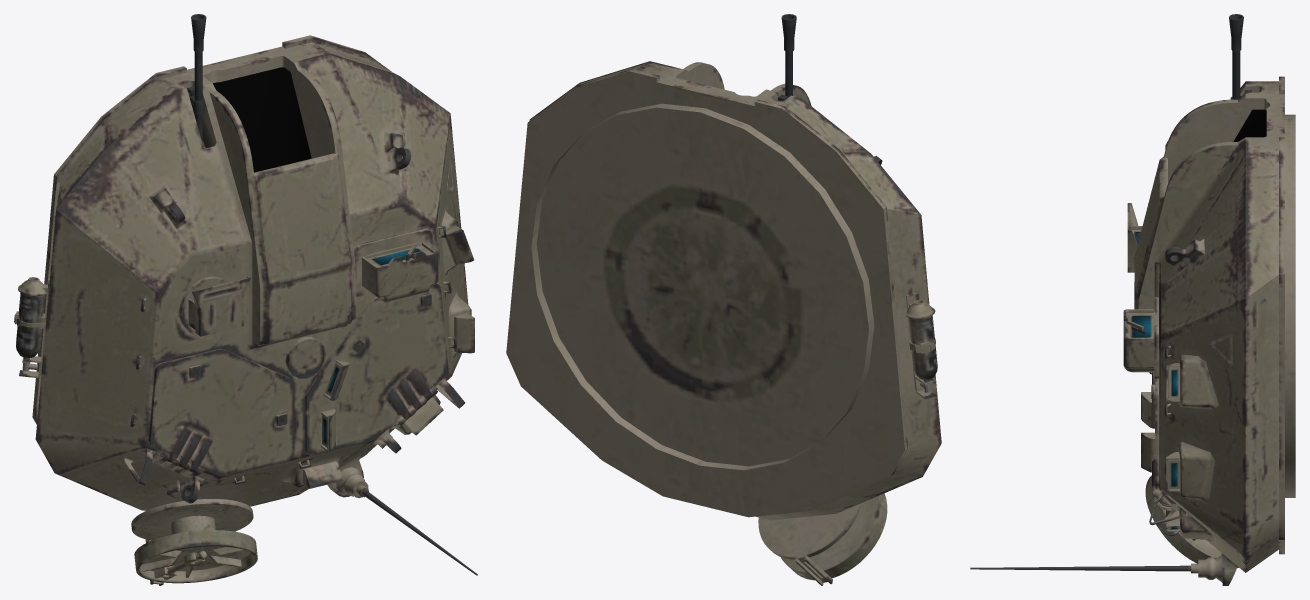
Rendered from Turret_01.glb.
The picture shows the model from 3 angles, left to right: view 1: azimuth 30°, elevation 25°; view 2: azimuth 150°, elevation 25°; view 3: azimuth 270°, elevation 25°; orthographic projection. The views are drawn at different scales.
Visible parts, largest first — view 1: set_0_group_0; view 2: set_0_group_0; view 3: set_0_group_0.
Boxes of the visible parts, left/top/right/bottom form: set_0_group_0: left=14, top=14, right=477, bottom=585; set_0_group_0: left=506, top=14, right=941, bottom=585; set_0_group_0: left=970, top=14, right=1295, bottom=585.
Bounding box in the file's own units: 1.62 × 1.97 × 1.06.
1 material, 1 textured.
